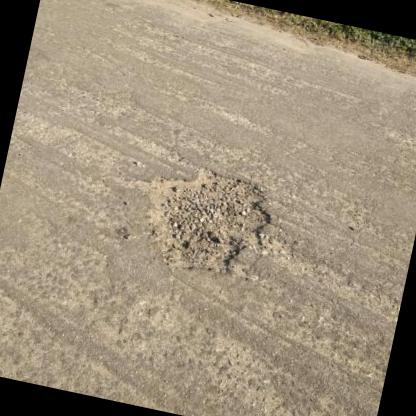pothole: (115, 152, 280, 288)
